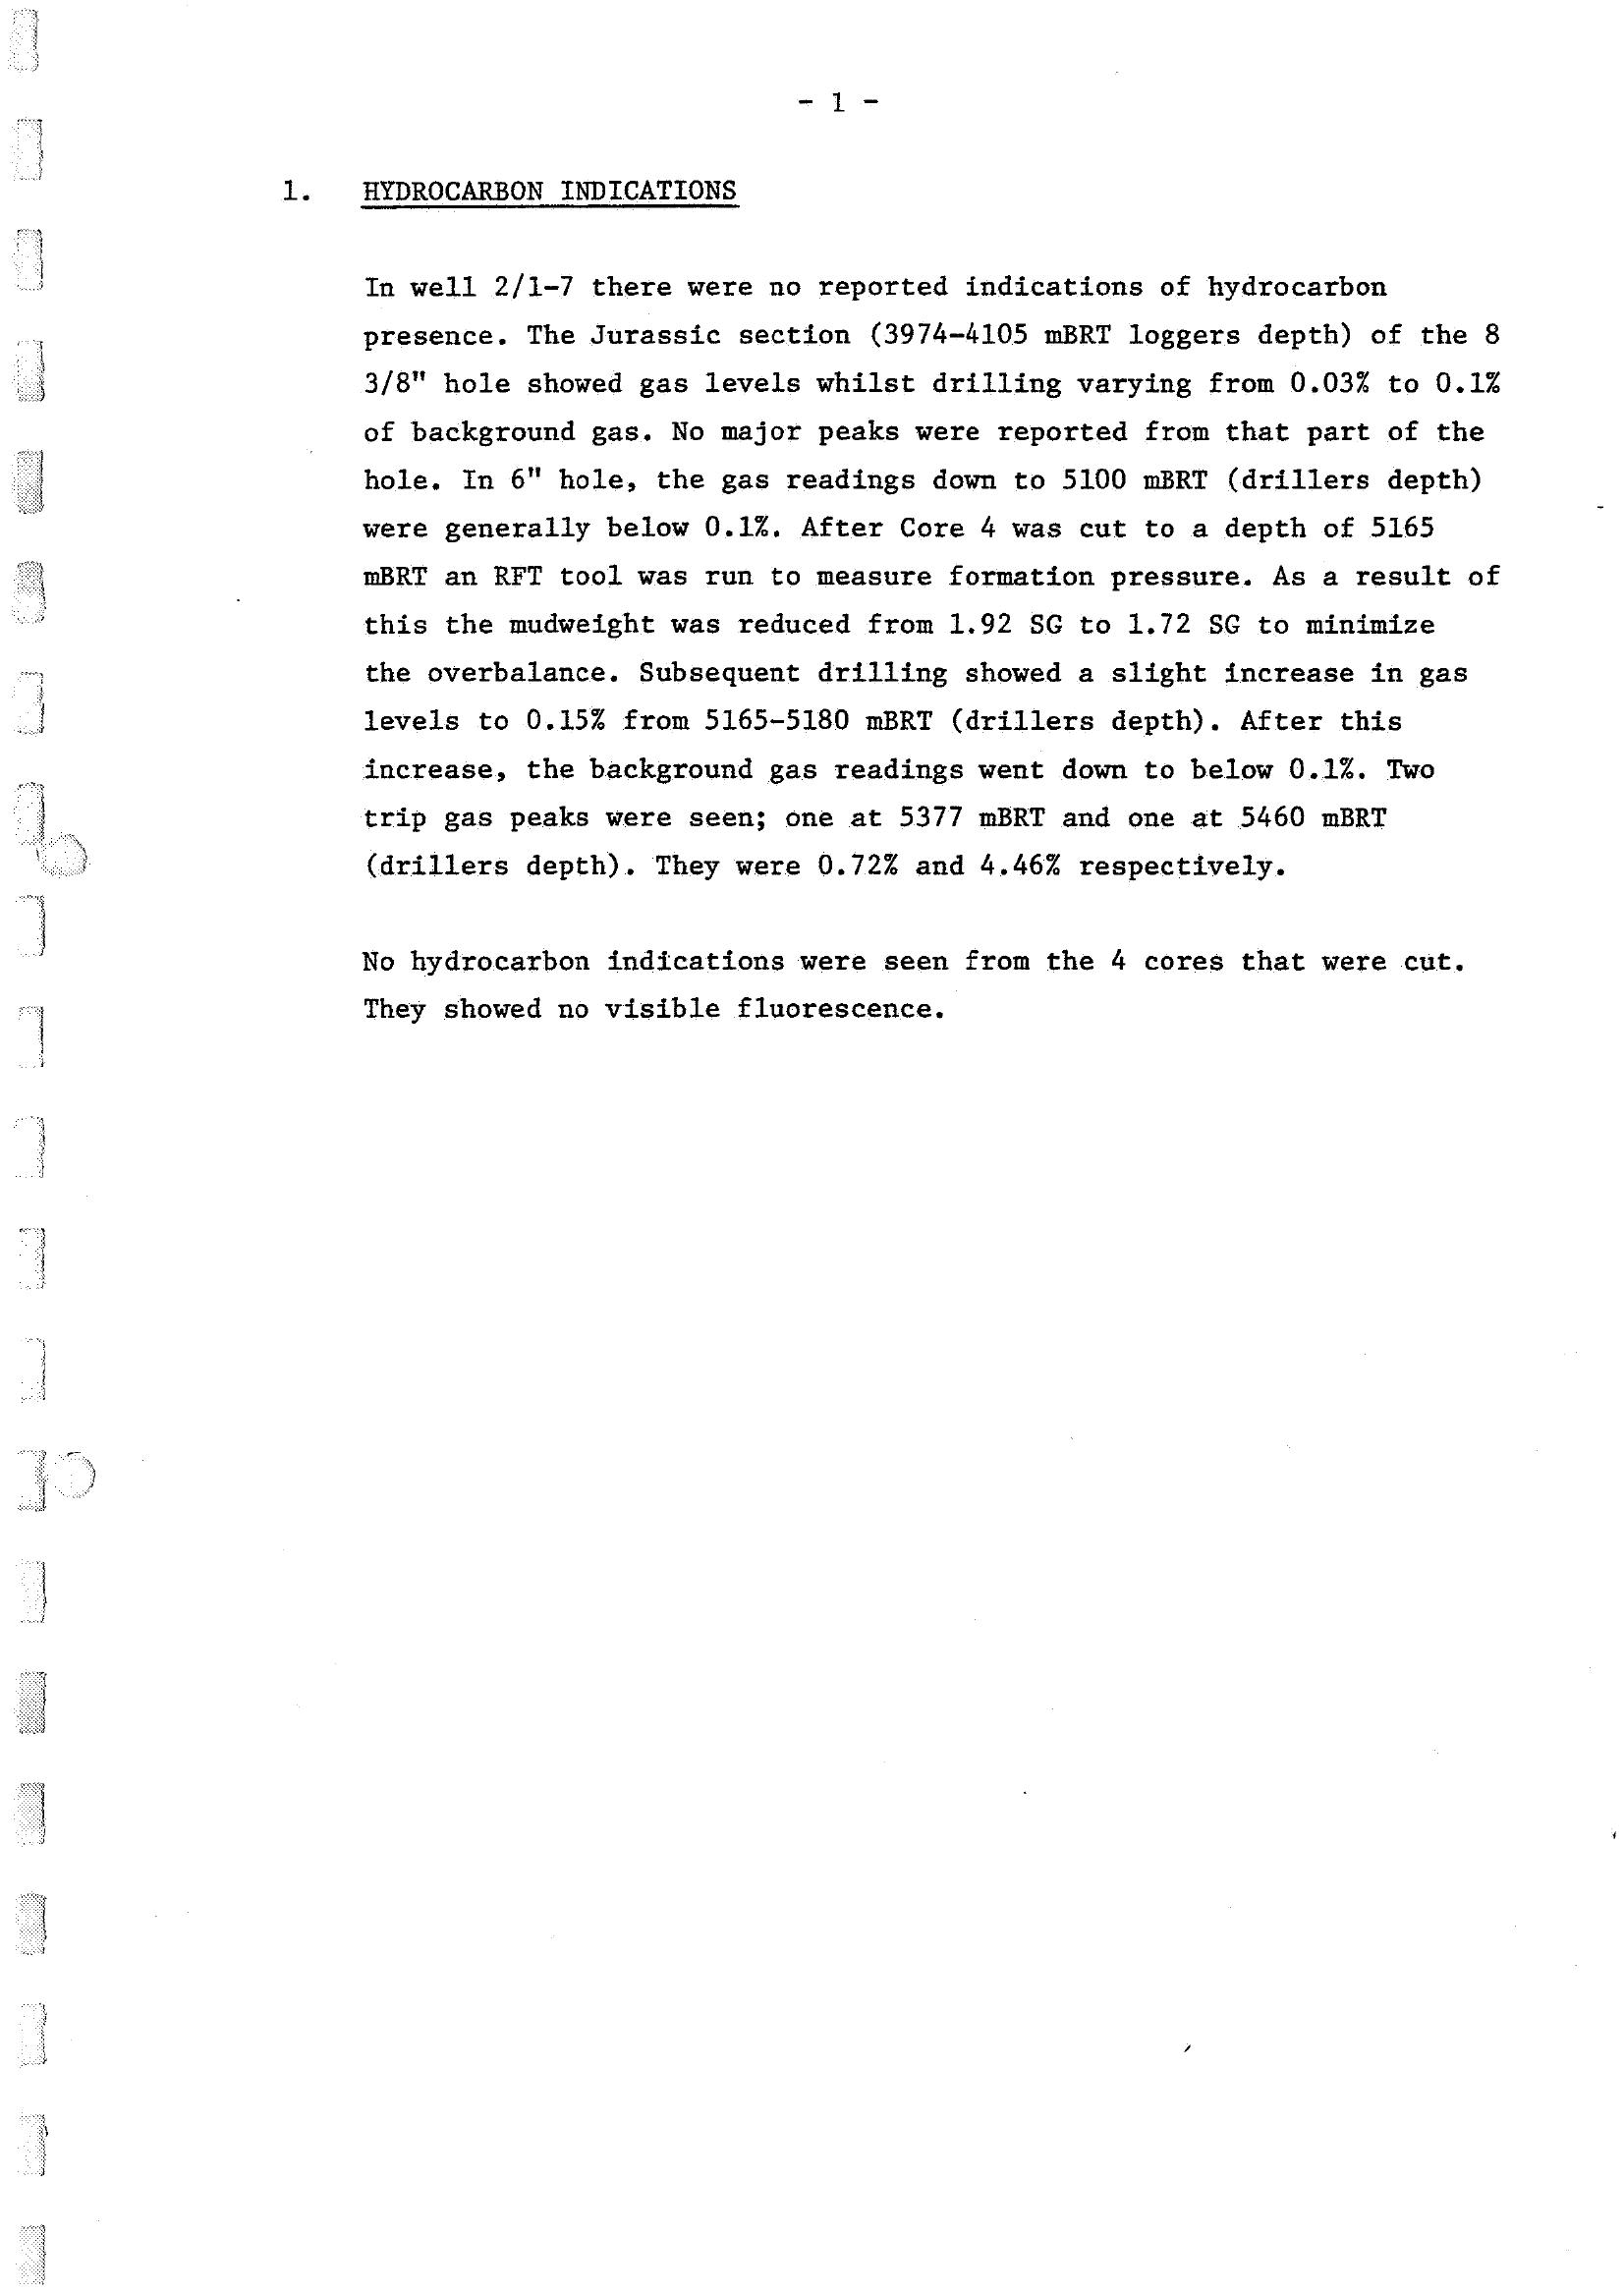text: (237, 144, 1543, 1082)
